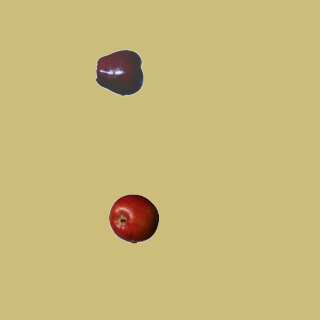Apple Braeburn: (108, 193, 158, 243)
Apple Red Delicious: (95, 47, 145, 97)
